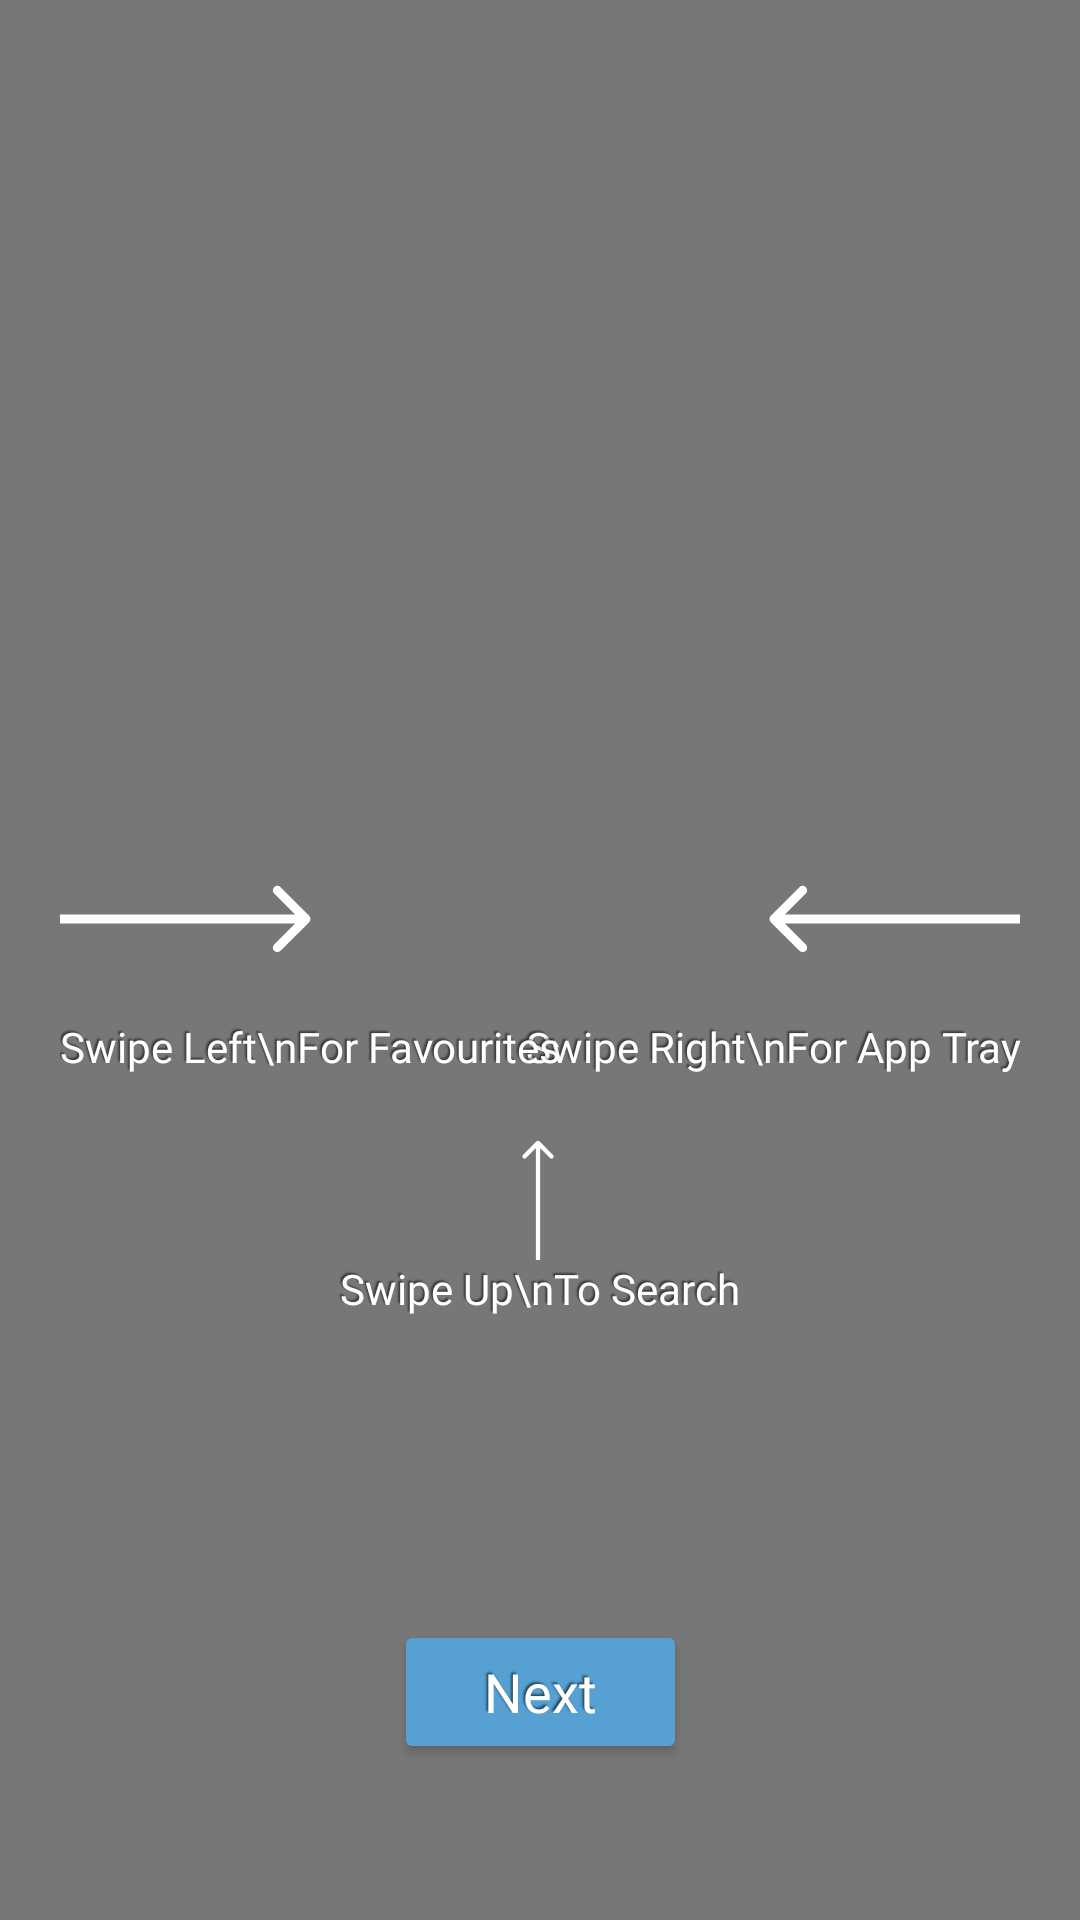

Point at icon controls on the screen. Image size 1080×1920, points as (x,y).
arrowup: (538,1200)
